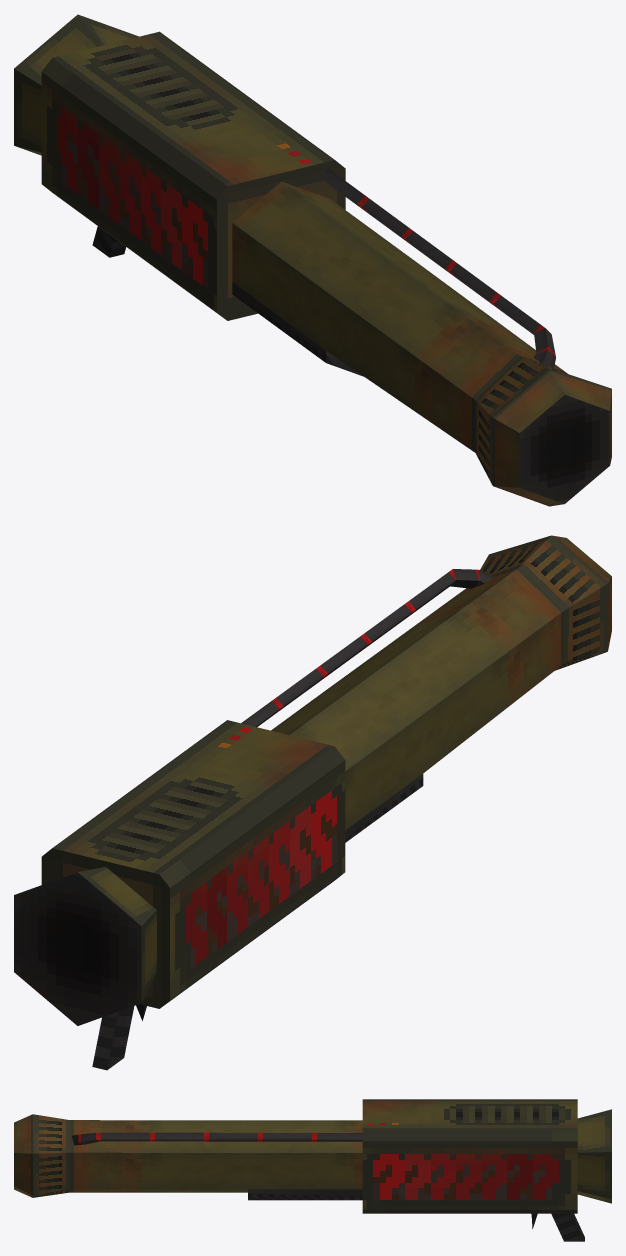
Rendered from rocket_launcher.glb.
3 views of the same model, one above another, from view 1: azimuth 30°, elevation 25°; view 2: azimuth 150°, elevation 25°; view 3: azimuth 270°, elevation 25° (orthographic). The views are drawn at different scales.
Visible parts, largest first — view 1: Cylinder; view 2: Cylinder; view 3: Cylinder.
Part boxes in pixels (<box>): Cylinder: <box>14,14,611,506</box>; Cylinder: <box>14,535,611,1070</box>; Cylinder: <box>14,1099,611,1241</box>.
Size of the model in its own units: 0.2278 by 0.3599 by 1.5.
1 material, 1 textured.
